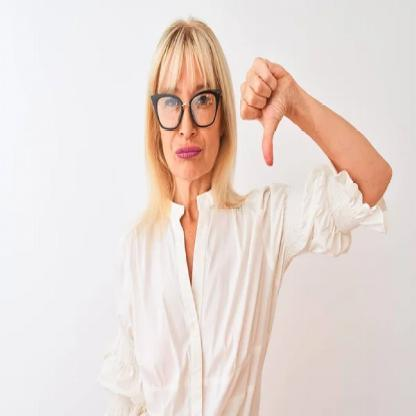thumb_down: (237, 53, 293, 168)
